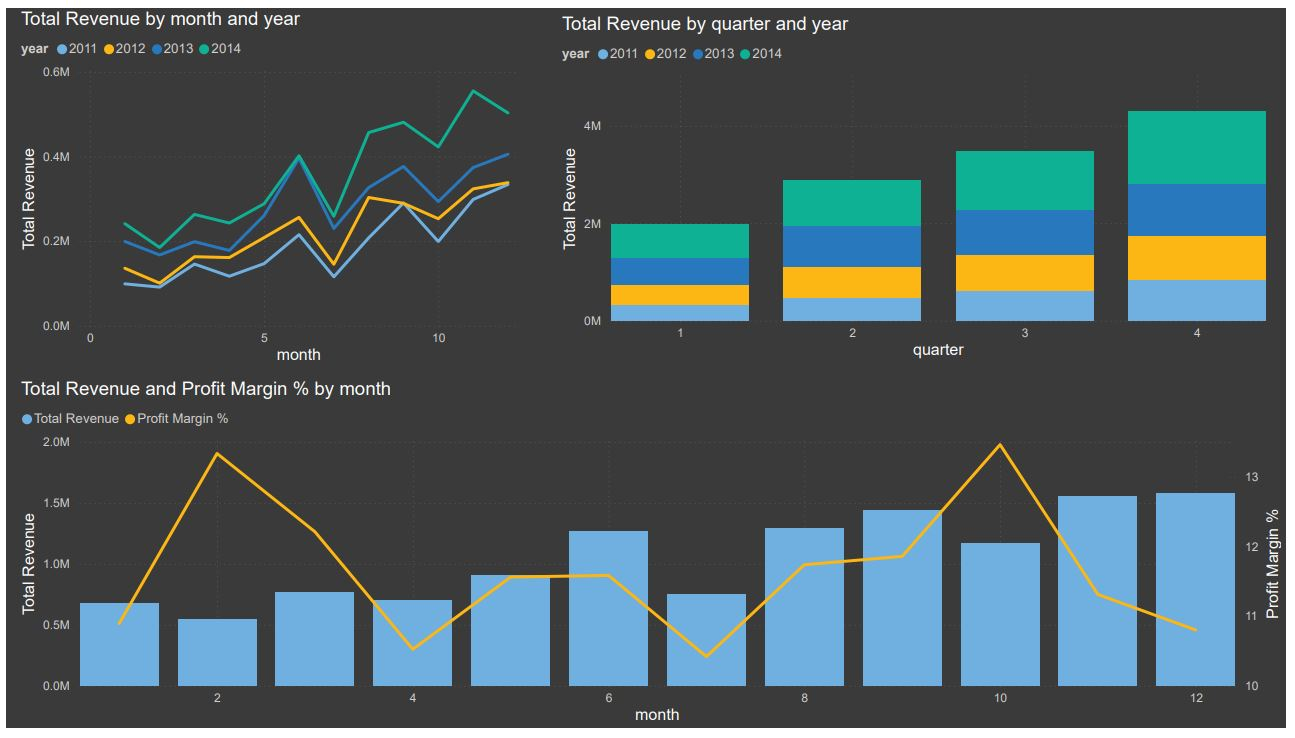

What the dashboard file says about the page in this screenshot:
{"tool":"powerbi","page":{"name":"Time Analysis","canvas":[1280,720],"ordinal":3},"visuals":[{"type":"lineChart","fields":{"Category":["marts dim_date.month"],"Y":["marts fact_sales.Total Revenue"],"Series":["marts dim_date.year"]},"box":[9.7,0,507.7,359.9],"z":0},{"type":"columnChart","fields":{"Category":["marts dim_date.quarter"],"Y":["marts fact_sales.Total Revenue"],"Series":["marts dim_date.year"]},"box":[550.5,4.9,714.9,350.2],"z":1000},{"type":"lineClusteredColumnComboChart","fields":{"Category":["marts dim_date.month"],"Y":["marts fact_sales.Total Revenue"],"Y2":["marts fact_sales.Profit Margin %"]},"box":[9.7,369.6,1270.3,350.2],"z":2000}]}

Visuals, with their boxes in screenshot pixels (x1, y1, x2, y2), scaled from the page's 1280x720 canvas onto the 1295x738 screenshot:
lineChart - marts dim_date.month x marts fact_sales.Total Revenue: [10, 0, 523, 369]
columnChart - marts dim_date.quarter x marts fact_sales.Total Revenue: [557, 5, 1280, 364]
lineClusteredColumnComboChart - marts dim_date.month x marts fact_sales.Total Revenue: [10, 379, 1294, 737]
